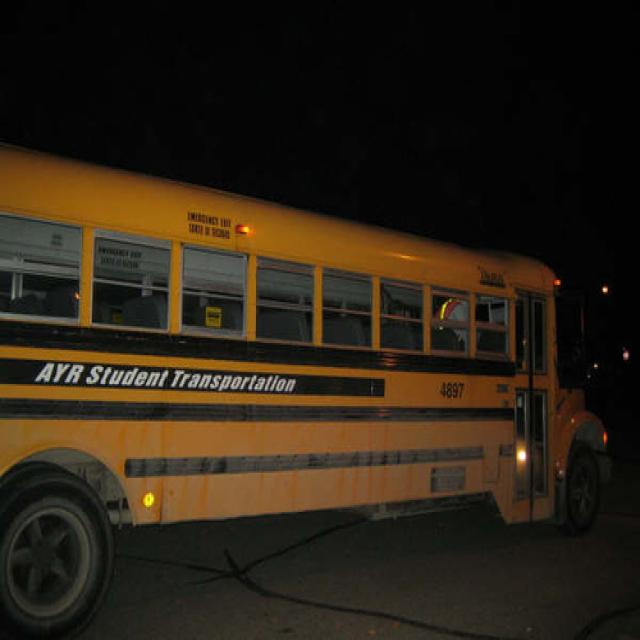bus: (1, 143, 613, 639)
